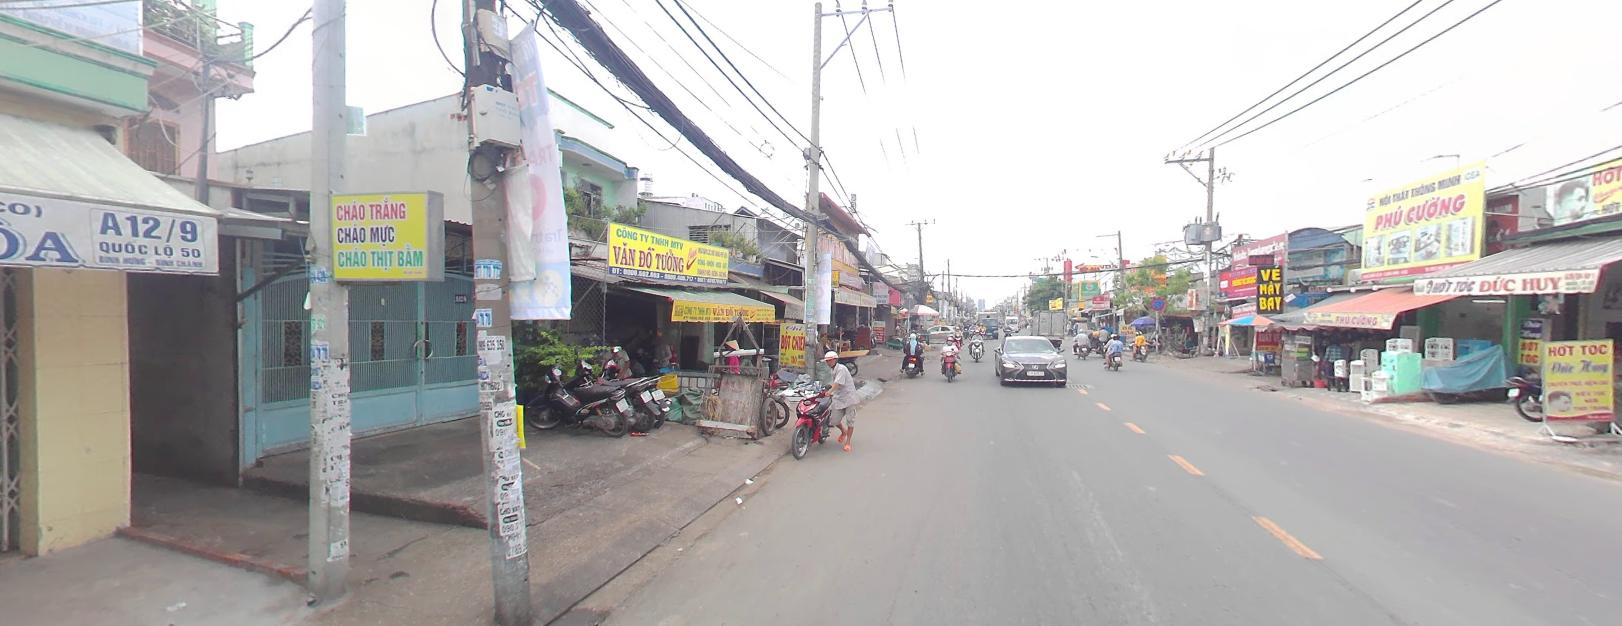Cam dung va do: (1150, 294, 1165, 307), (1149, 296, 1164, 309), (1150, 295, 1164, 308)
